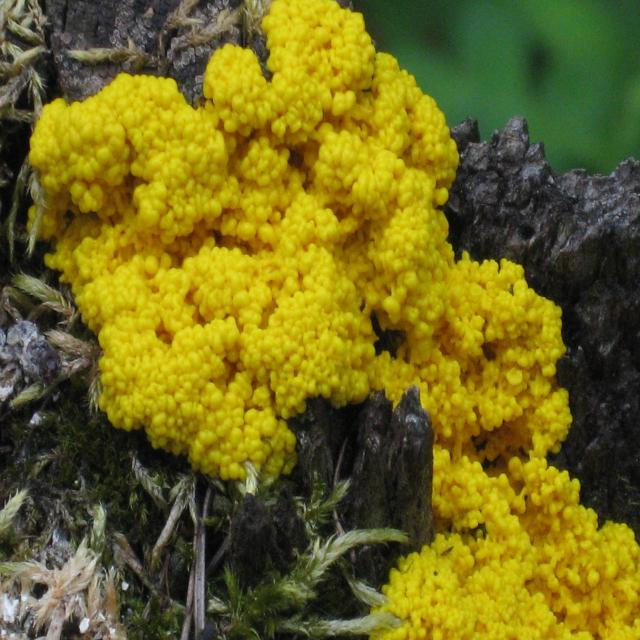Dog_vomit_slime_mold: (19, 3, 640, 640)
